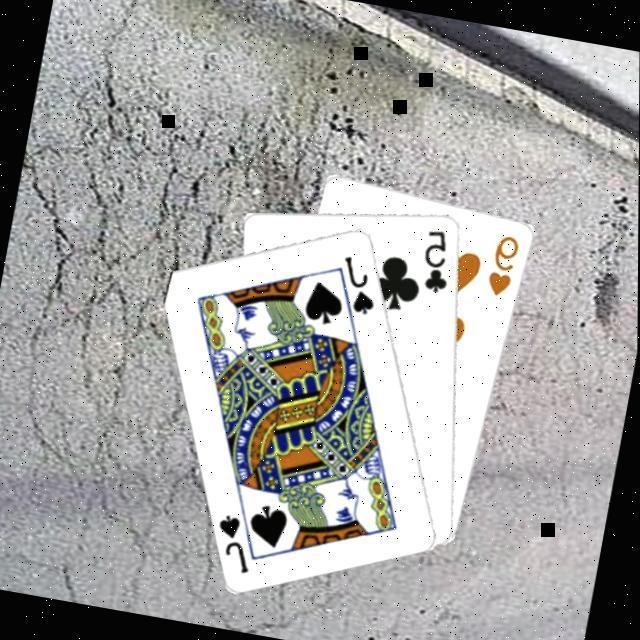5C: (416, 226, 461, 298)
9H: (484, 230, 525, 302)
JS: (332, 252, 386, 320), (208, 511, 262, 578)
